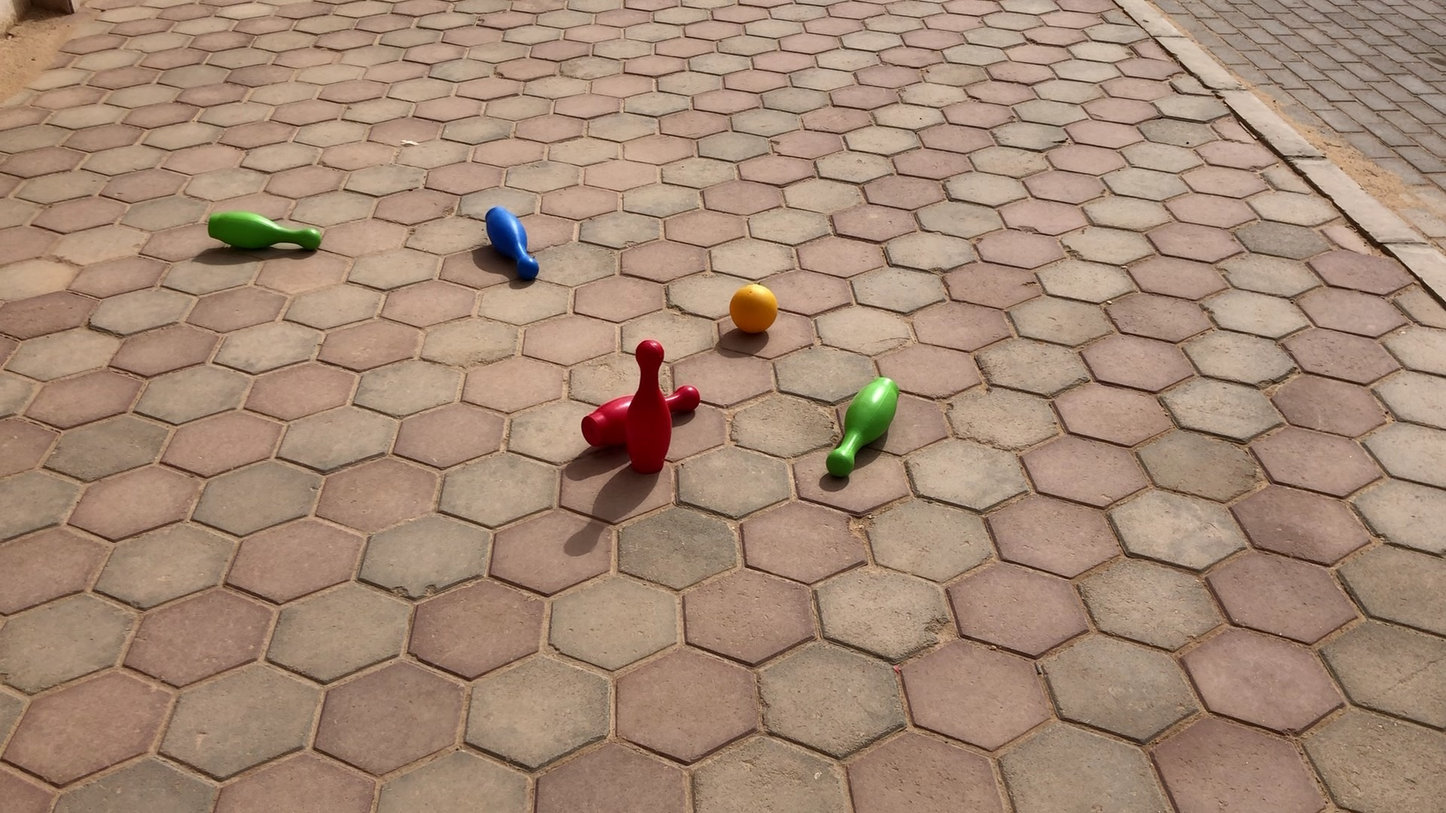pin: (827, 377, 895, 479), (624, 342, 677, 470), (583, 394, 684, 459), (205, 212, 322, 253), (487, 207, 541, 280)
